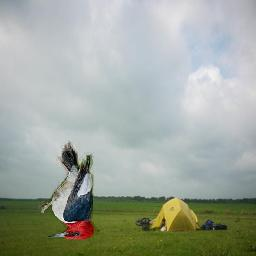Woodpecker: (36, 141, 98, 240)
